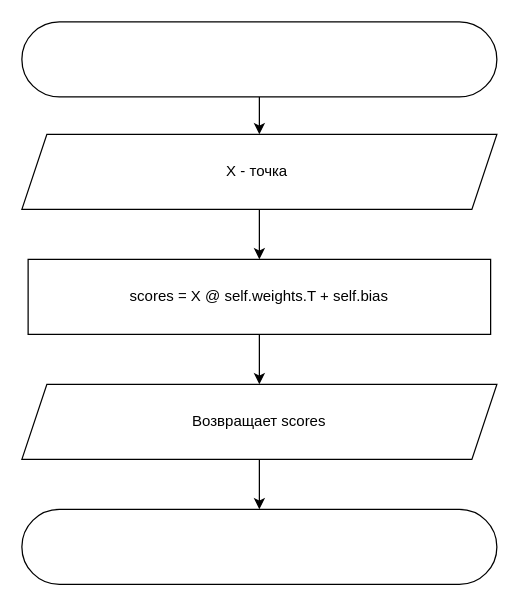
Image size: 519x606. Some labels were removed from this diagram. Here are the shapes that lost their labels. From the top down, the centre of each, then its label:
[259,59]: Начало
[259,546]: Конец
